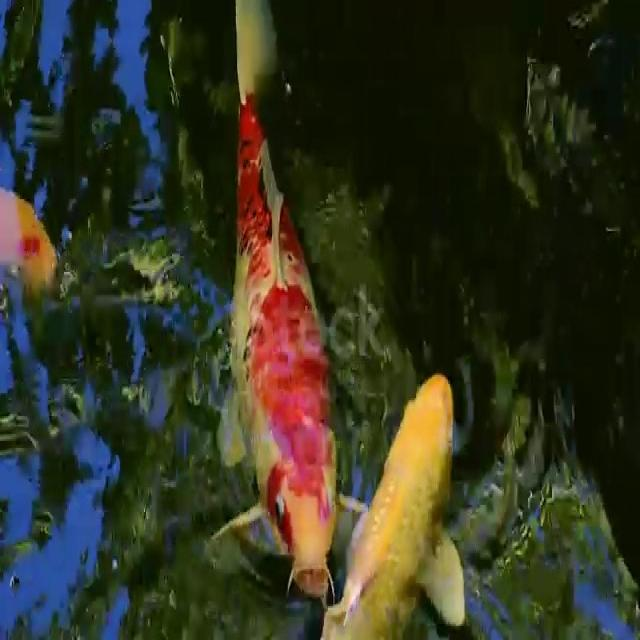fish: (210, 0, 343, 601), (324, 366, 464, 640), (0, 167, 75, 314)
